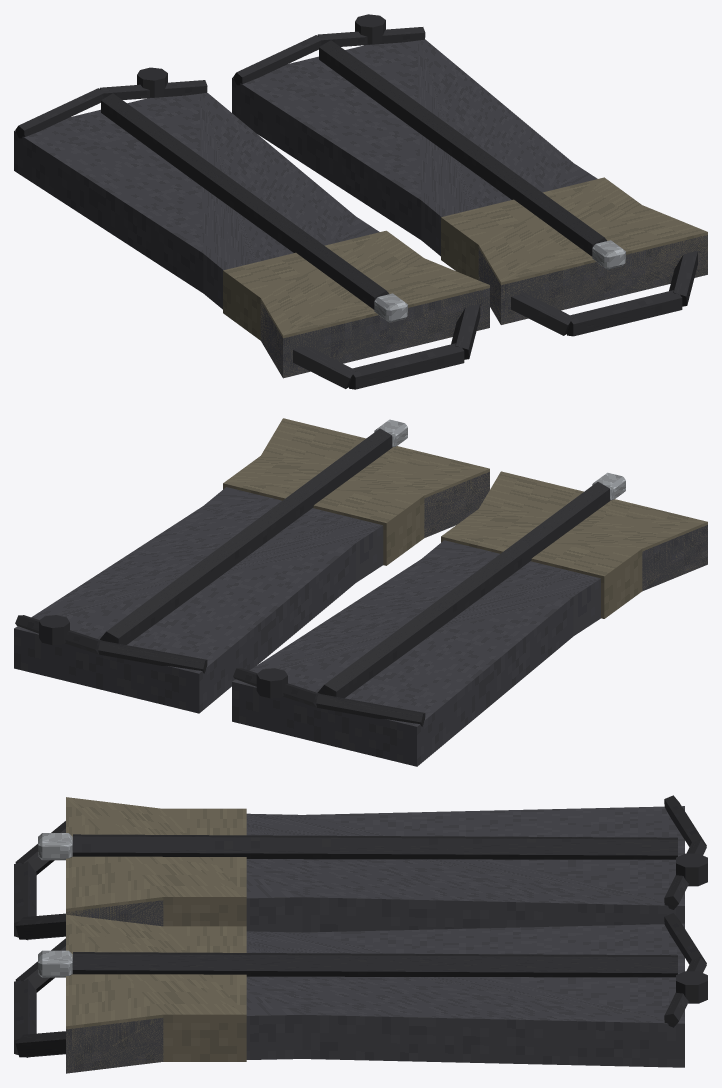
File: gaiter_boot_heavy.glb
3 renders of one model, top to bottom at view 1: azimuth 30°, elevation 25°; view 2: azimuth 150°, elevation 25°; view 3: azimuth 270°, elevation 25°, orthographic. The views are drawn at different scales.
Visible parts, largest first — view 1: block_nylon gaiter shell (×2), block_canvas lower panel (×2), block_front hook-and-loop closure 0 (×2), block_instep strap 1 (×2), block_top drawcord 0 (×2), block_instep strap 0 (×2), block_top drawcord 1 (×2), block_instep strap 2 (×2), block_lace hook (×2), block_cord lock (×2); view 2: block_nylon gaiter shell (×2), block_canvas lower panel (×2), block_front hook-and-loop closure 0 (×2), block_top drawcord 0 (×2), block_top drawcord 1 (×2), block_cord lock (×2); view 3: block_nylon gaiter shell (×2), block_canvas lower panel (×2), block_front hook-and-loop closure 0 (×2), block_instep strap 1 (×2), block_instep strap 2 (×2), block_lace hook (×2), block_cord lock (×2), block_top drawcord 0 (×2), block_top drawcord 1 (×2), block_instep strap 0 (×2).
Boxes of the visible parts, x1,y1,x2,y2 form: block_nylon gaiter shell (×2): [14, 39, 707, 378]; block_canvas lower panel (×2): [223, 177, 707, 377]; block_front hook-and-loop closure 0 (×2): [101, 40, 606, 309]; block_instep strap 1 (×2): [348, 290, 682, 389]; block_top drawcord 0 (×2): [15, 35, 321, 138]; block_instep strap 0 (×2): [293, 293, 573, 388]; block_top drawcord 1 (×2): [99, 27, 425, 99]; block_instep strap 2 (×2): [451, 251, 697, 359]; block_lace hook (×2): [374, 240, 625, 322]; block_cord lock (×2): [137, 14, 385, 97]; block_nylon gaiter shell (×2): [14, 472, 707, 766]; block_canvas lower panel (×2): [223, 418, 707, 618]; block_front hook-and-loop closure 0 (×2): [100, 428, 610, 698]; block_top drawcord 0 (×2): [98, 641, 425, 726]; block_top drawcord 1 (×2): [15, 615, 320, 707]; block_cord lock (×2): [39, 615, 287, 698]; block_nylon gaiter shell (×2): [66, 806, 684, 1073]; block_canvas lower panel (×2): [66, 797, 246, 1072]; block_front hook-and-loop closure 0 (×2): [72, 834, 677, 977]; block_instep strap 1 (×2): [14, 861, 36, 1057]; block_instep strap 2 (×2): [15, 913, 65, 1057]; block_lace hook (×2): [38, 833, 72, 977]; block_cord lock (×2): [676, 853, 707, 1003]; block_top drawcord 0 (×2): [664, 795, 706, 964]; block_top drawcord 1 (×2): [664, 840, 706, 1027]; block_instep strap 0 (×2): [15, 821, 65, 992].
Bounding box in the file's own units: 0.1265 × 0.0198 × 0.1618.
2 materials, 2 textured.
